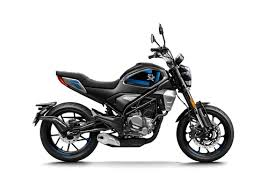motorcycle: (31, 23, 236, 164)
